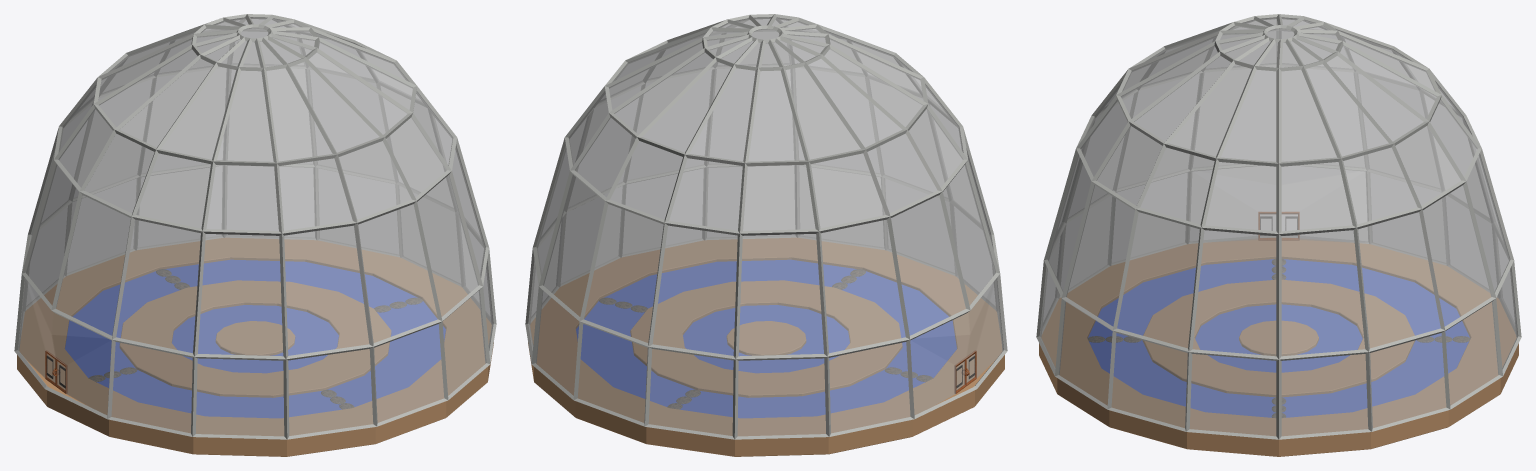
3 views of the same model, side by side, from view 1: azimuth 30°, elevation 25°; view 2: azimuth 150°, elevation 25°; view 3: azimuth 270°, elevation 25° (orthographic).
Visible parts, largest first — view 1: 玻璃, 地面, 框架, 水.006, 小石頭; view 2: 玻璃, 地面, 框架, 水.006, 小石頭; view 3: 玻璃, 地面, 框架, 水.006, 小石頭.
Part boxes in pixels (x1,y1,x2,y2): 玻璃: [18, 17, 493, 436]; 地面: [17, 238, 493, 456]; 框架: [14, 14, 496, 439]; 水.006: [65, 260, 445, 417]; 小石頭: [89, 269, 422, 409]; 玻璃: [528, 17, 1003, 436]; 地面: [528, 238, 1004, 456]; 框架: [525, 14, 1007, 439]; 水.006: [576, 260, 956, 417]; 小石頭: [599, 269, 932, 409]; 玻璃: [1040, 17, 1517, 436]; 地面: [1039, 237, 1518, 456]; 框架: [1036, 14, 1521, 439]; 水.006: [1088, 259, 1469, 417]; 小石頭: [1088, 259, 1469, 417].
Size of the model in its own units: 4700 by 3460 by 4700.
